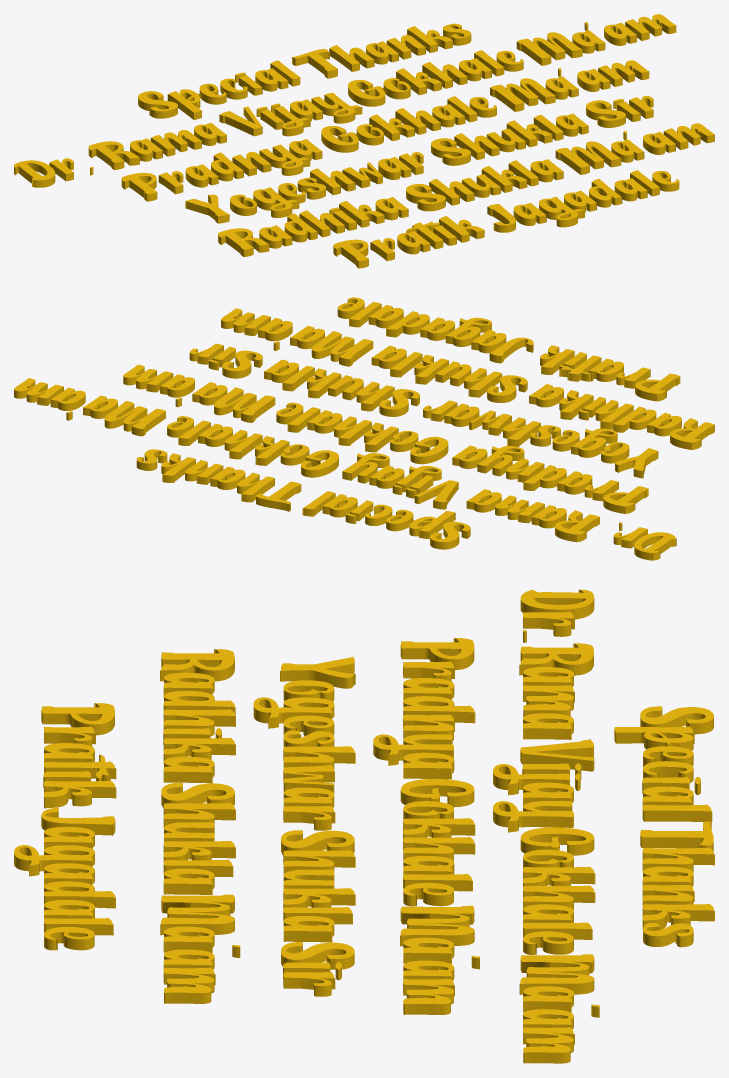
Rendered from specialThanks.gltf.
3 renders of one model, top to bottom at view 1: azimuth 30°, elevation 25°; view 2: azimuth 150°, elevation 25°; view 3: azimuth 270°, elevation 25°, orthographic. The views are drawn at different scales.
Parts seen in each view (by area): view 1: Text; view 2: Text; view 3: Text.
Part boxes in pixels (x1=…): Text: x1=14, y1=14, x2=714, y2=268; Text: x1=14, y1=297, x2=714, y2=560; Text: x1=14, y1=589, x2=714, y2=1063.
Size of the model in its own units: 9.15 by 0.1 by 5.85.
